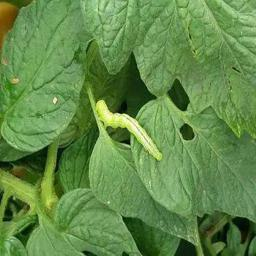Tobacco_budworm: (95, 100, 163, 162)
